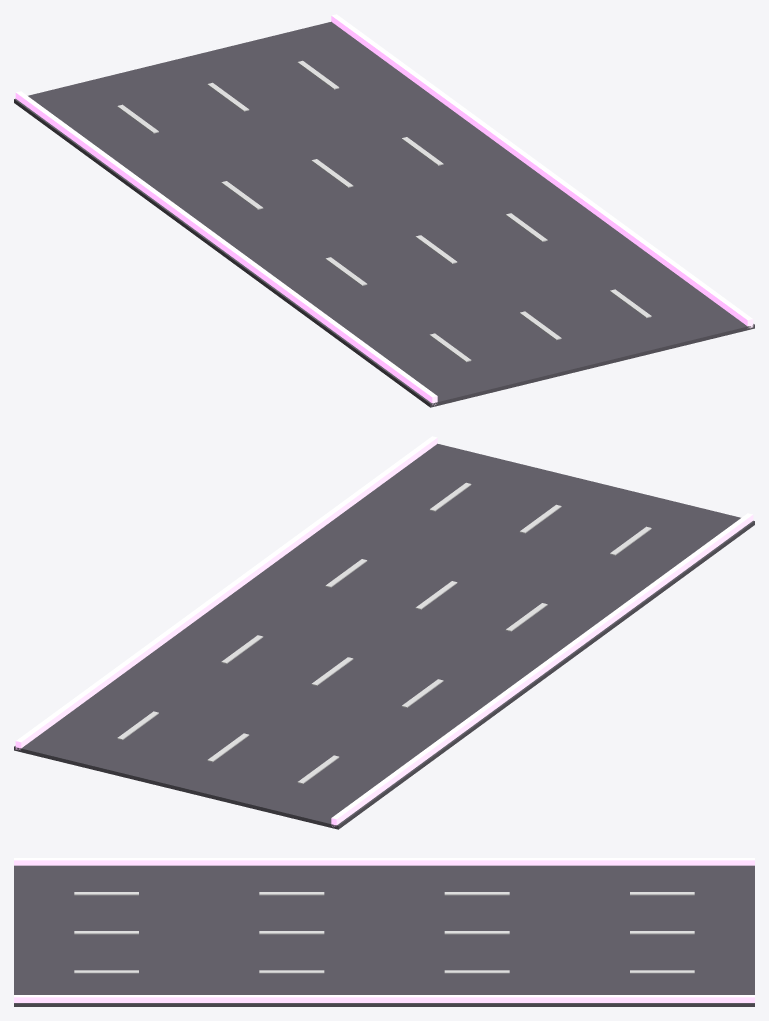
The model's file is road.glb.
The picture shows the model from 3 angles, top to bottom: view 1: azimuth 30°, elevation 25°; view 2: azimuth 150°, elevation 25°; view 3: azimuth 270°, elevation 25°; orthographic projection. The views are drawn at different scales.
Visible parts, largest first — view 1: road; view 2: road; view 3: road.
Boxes of the visible parts, x1=… form: road: x1=14, y1=14, x2=754, y2=407; road: x1=14, y1=436, x2=754, y2=829; road: x1=14, y1=858, x2=754, y2=1006.
Size of the model in its own units: 7.2 by 0.21 by 16.
